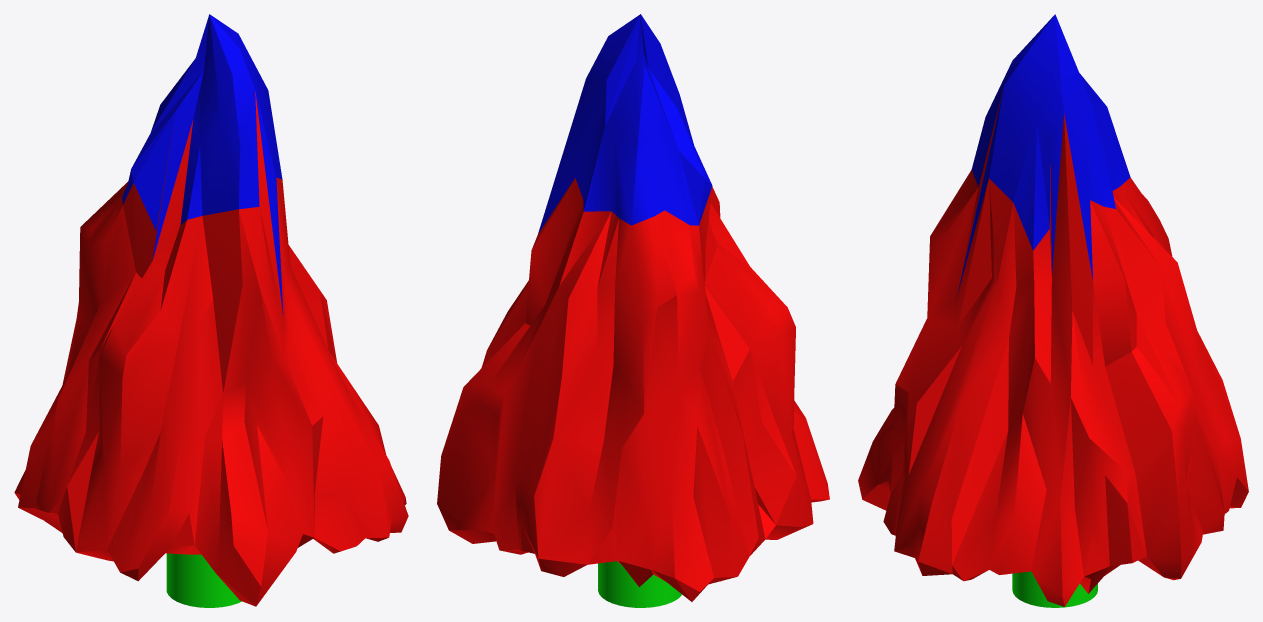
Rendered from Christmas Tree 2.fbx.
The picture shows the model from 3 angles, left to right: view 1: azimuth 30°, elevation 25°; view 2: azimuth 150°, elevation 25°; view 3: azimuth 270°, elevation 25°; orthographic projection.
Visible parts, largest first — view 1: Christmas Tree 2; view 2: Christmas Tree 2; view 3: Christmas Tree 2.
Boxes of the visible parts, x1,y1,x2,y2 form: Christmas Tree 2: (14, 14, 408, 607); Christmas Tree 2: (437, 14, 829, 607); Christmas Tree 2: (858, 14, 1248, 607).
Size of the model in its own units: 145 by 242 by 149.
